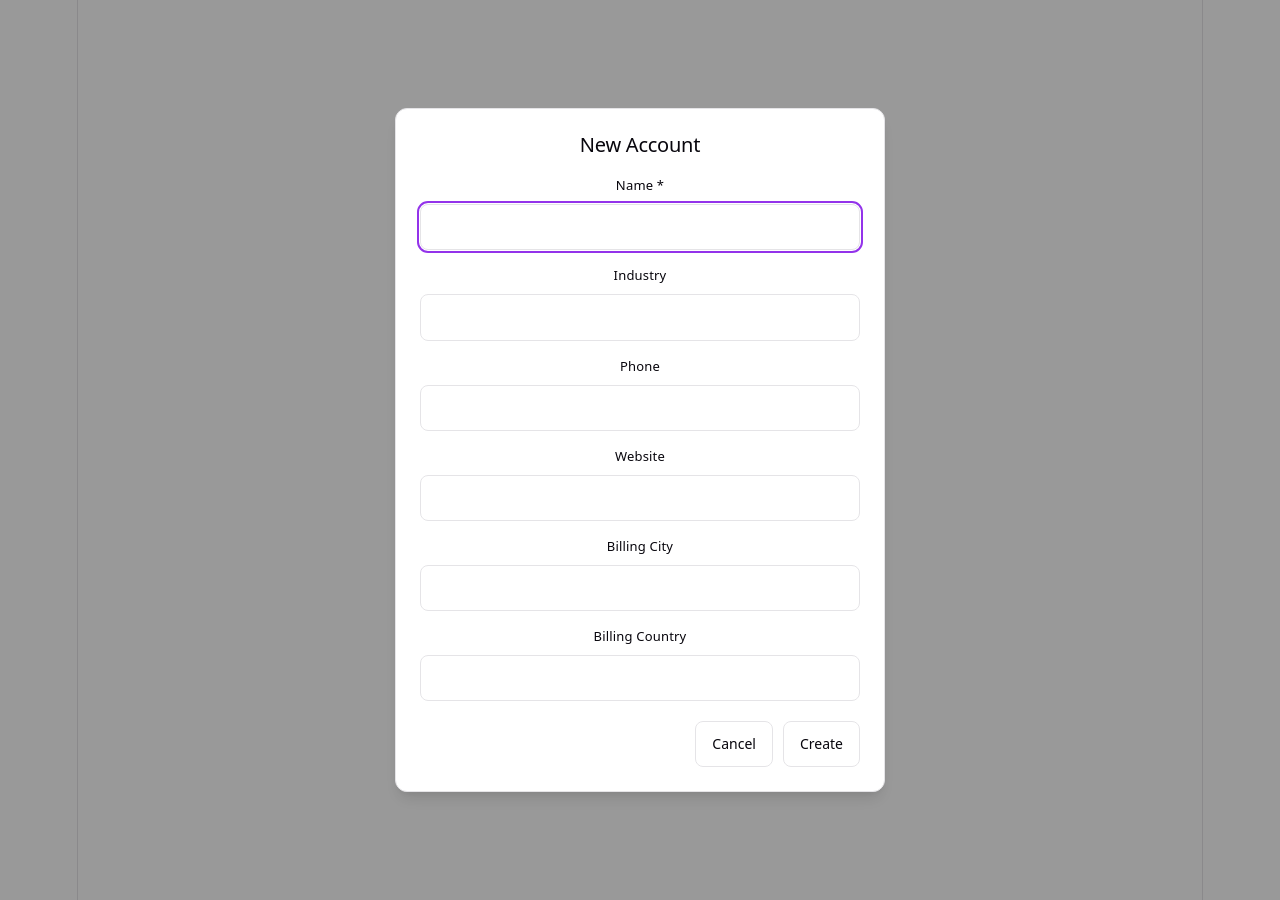
Scenario: NewAccountModal › requires a name before submitting
Click the button "Create".
click(821, 744)  # box x1=783 y1=721 x2=860 y2=767
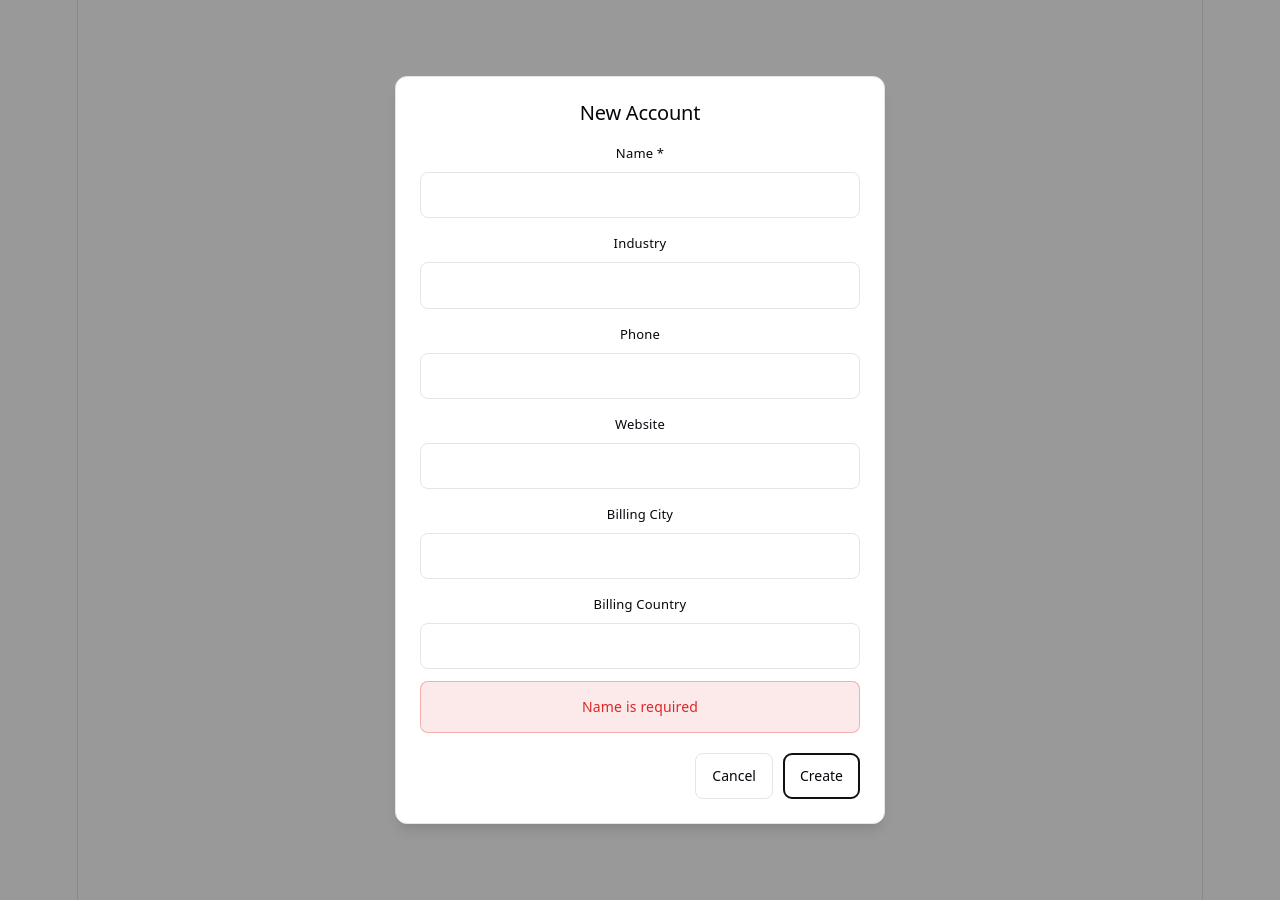
Expected: the text "Name is required" is shown, x1=420 y1=681 x2=860 y2=733
